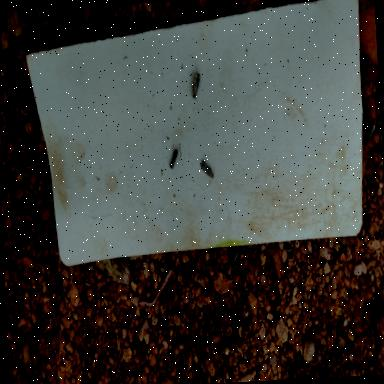pbw: (200, 158, 218, 188), (186, 72, 202, 104), (166, 144, 182, 172)
